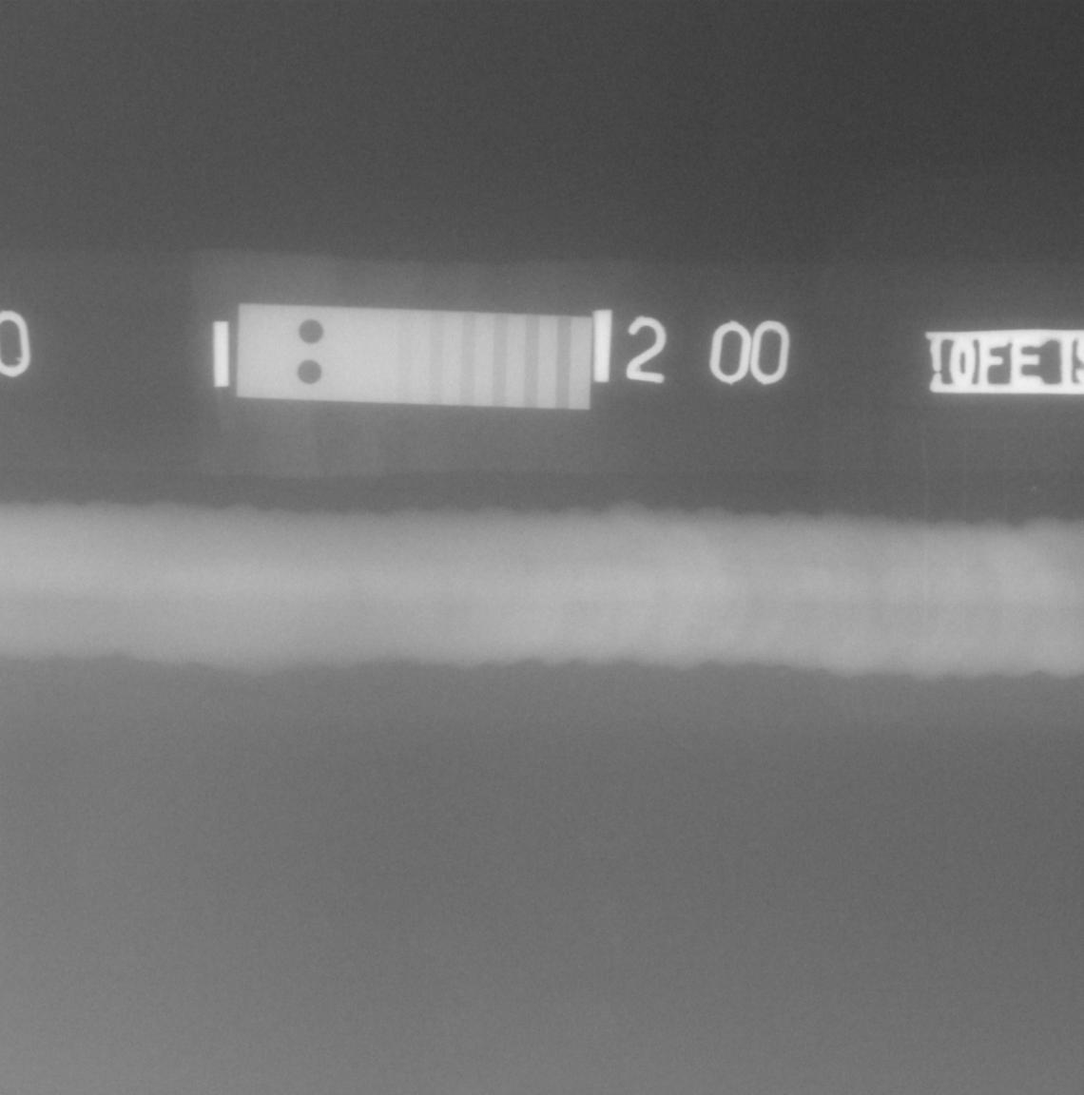Reference Standard 2: (236, 303, 593, 411)
